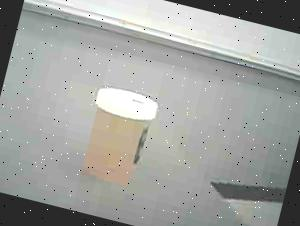Bottle B: (67, 73, 173, 200)
